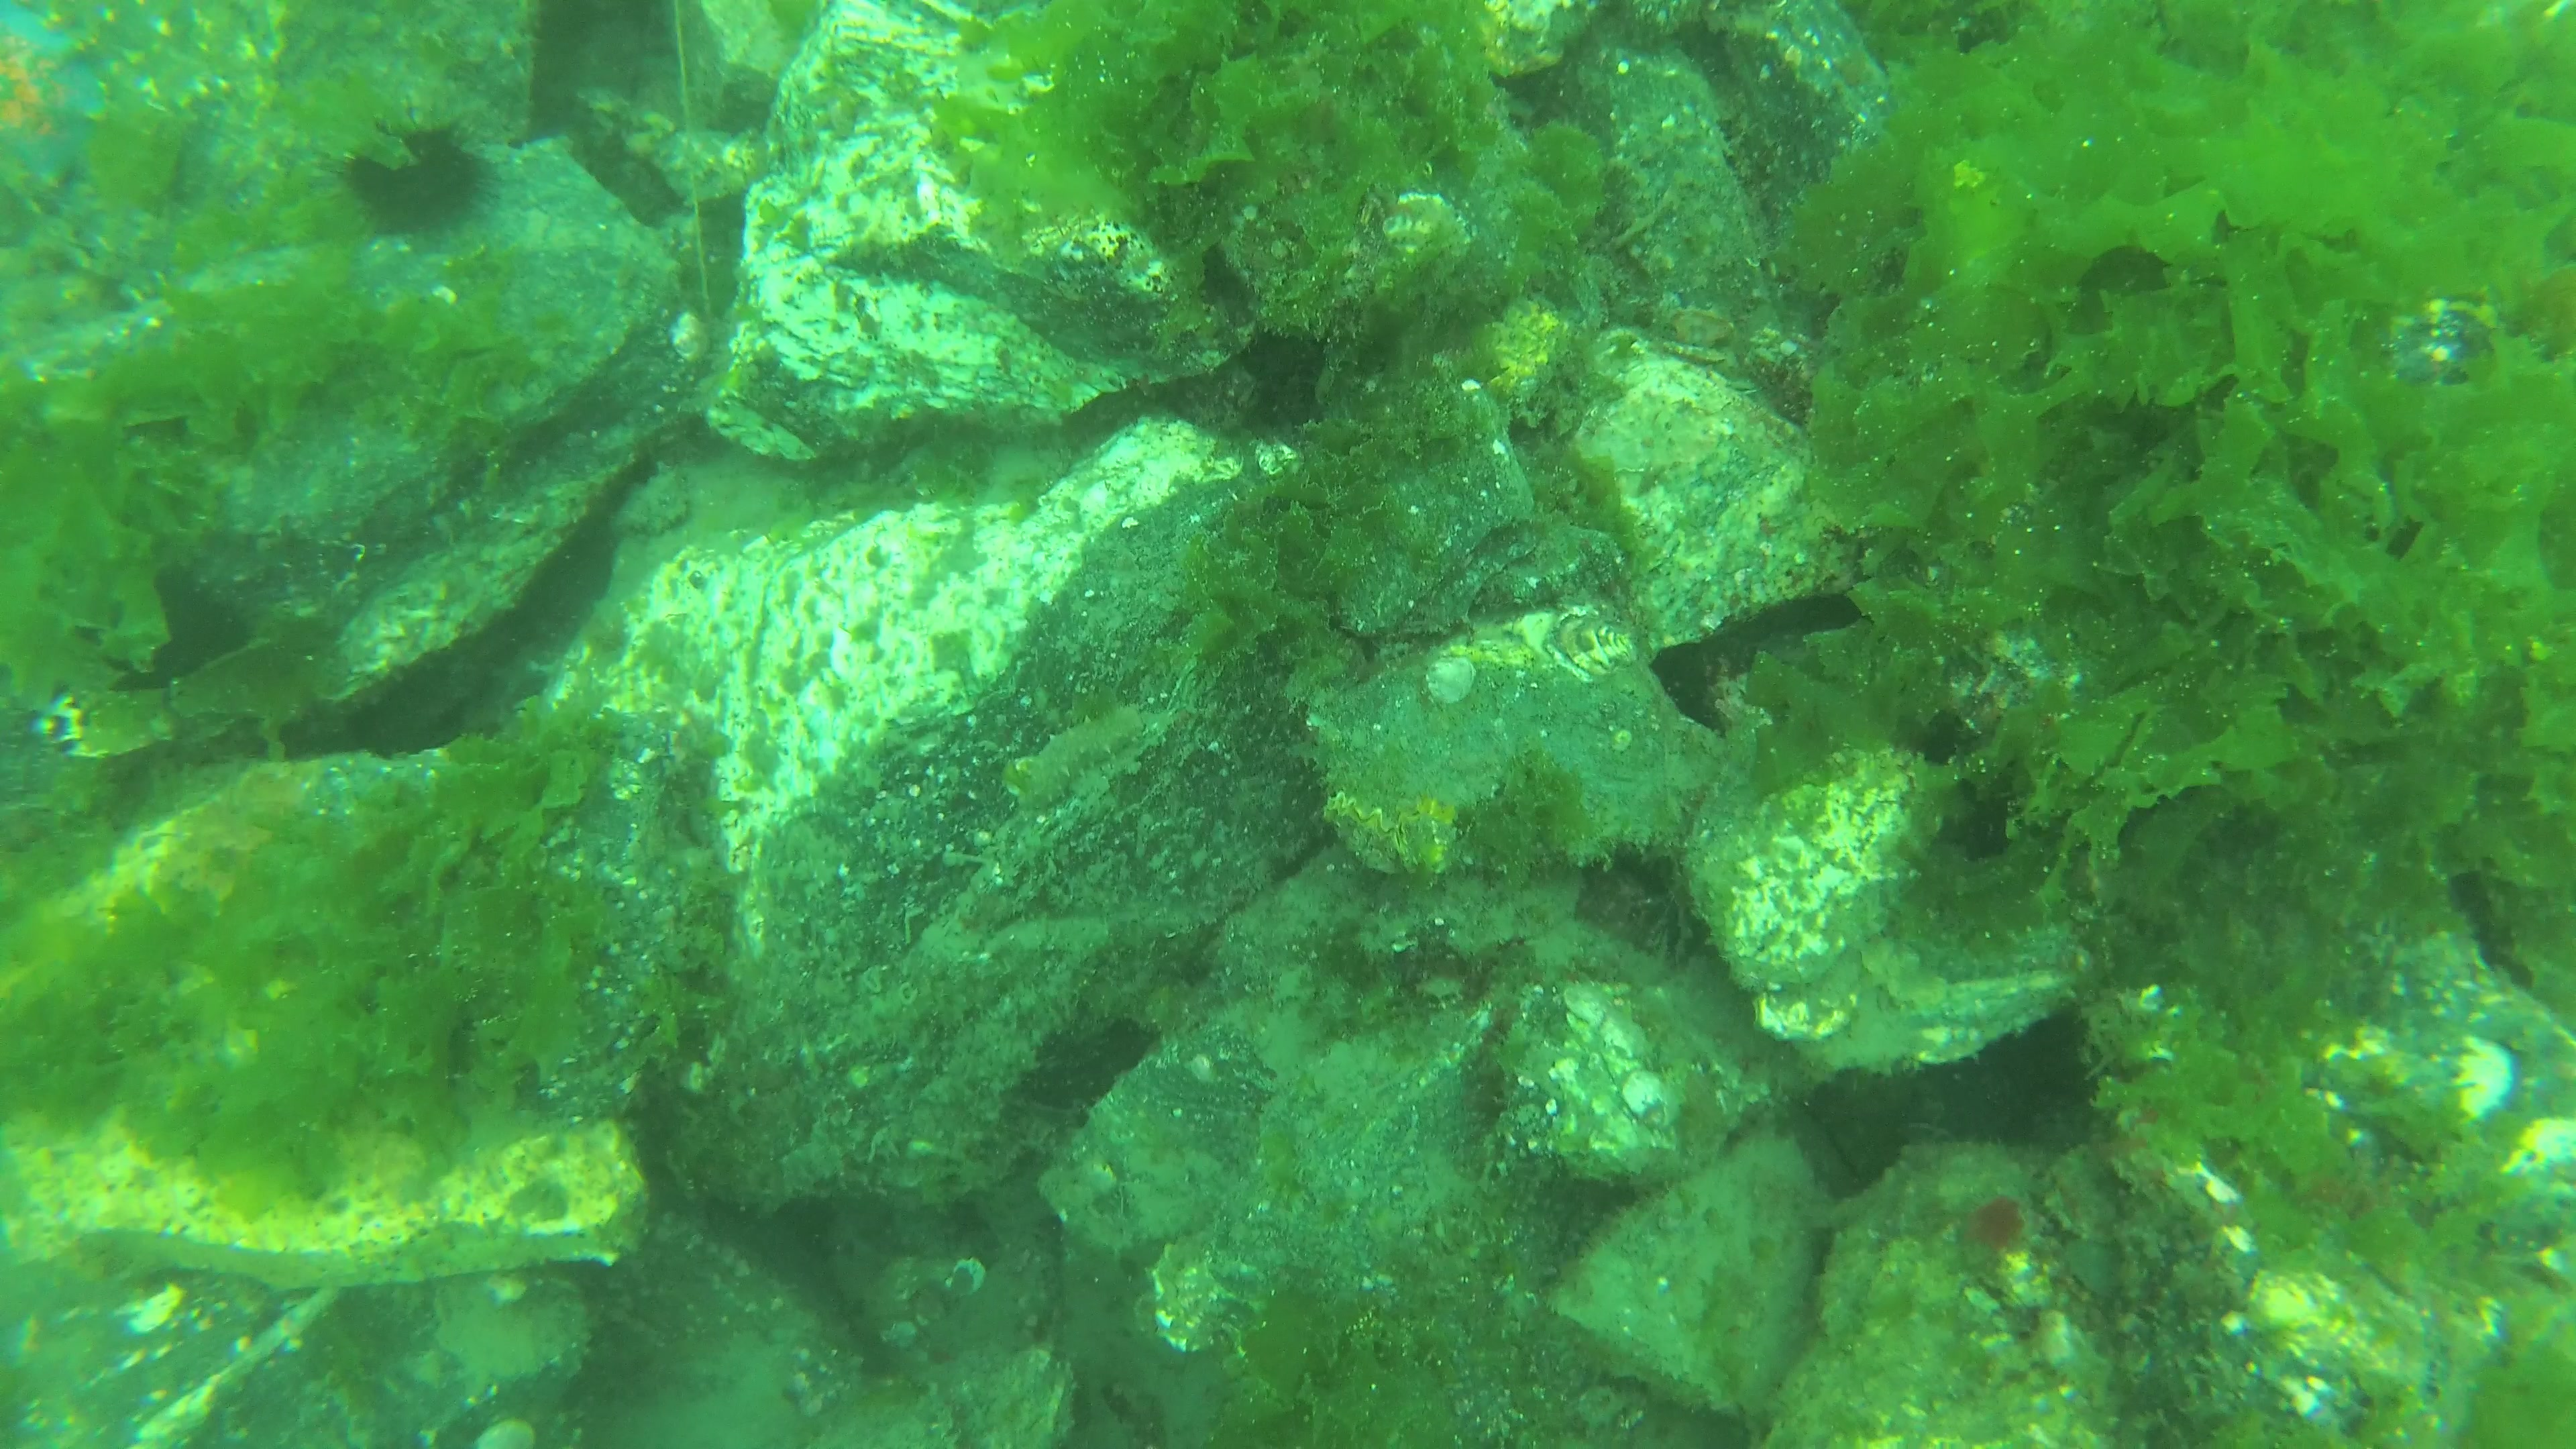echinus: (331, 111, 504, 248)
starfish: (4, 5, 115, 214)
